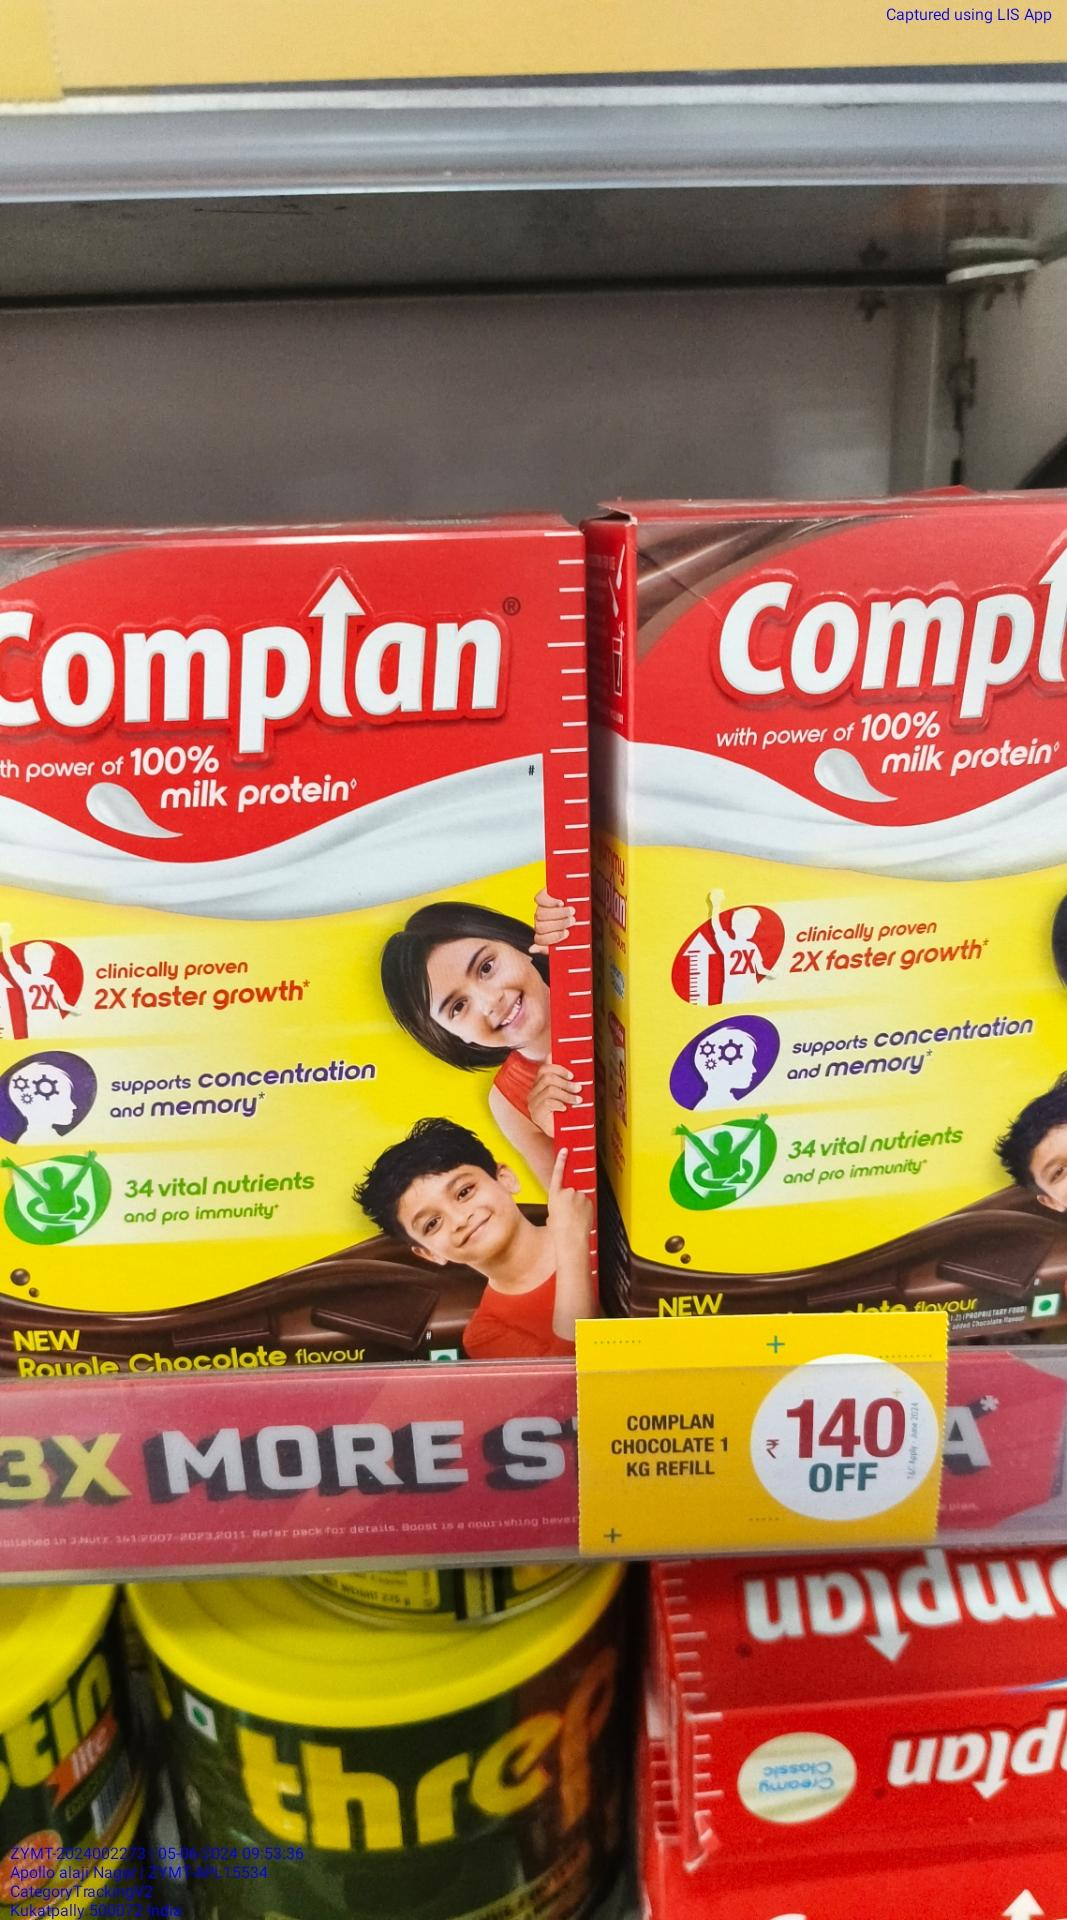COMPLAN_CHOCOLATE_500_GMS_PACK: (0, 545, 582, 1378), (629, 520, 1067, 1305)
